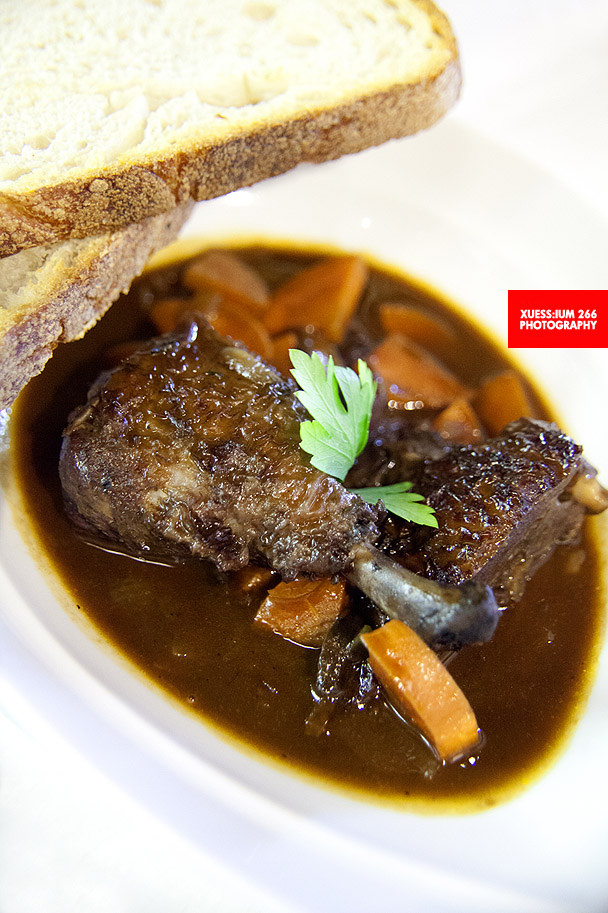slice of bread: (1, 31, 497, 143)
